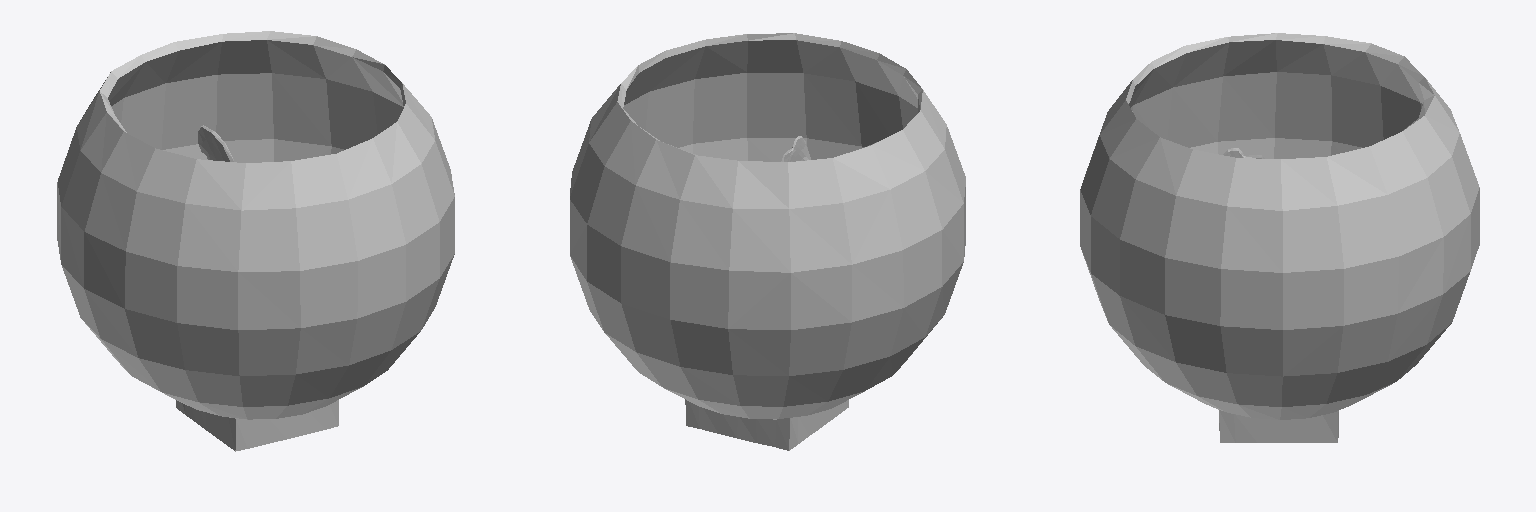
File: fishandbowl.obj
The picture shows the model from 3 angles: view 1: azimuth 30°, elevation 25°; view 2: azimuth 150°, elevation 25°; view 3: azimuth 270°, elevation 25°; orthographic projection.
Visible parts, largest first — view 1: bowl, fish; view 2: bowl; view 3: bowl.
Boxes of the visible parts, x1,y1,x2,y2 form: bowl: [57, 31, 454, 451]; fish: [198, 125, 233, 161]; bowl: [570, 33, 965, 450]; bowl: [1080, 33, 1479, 442].
Bounding box in the file's own units: 16.29 × 14.53 × 16.28.